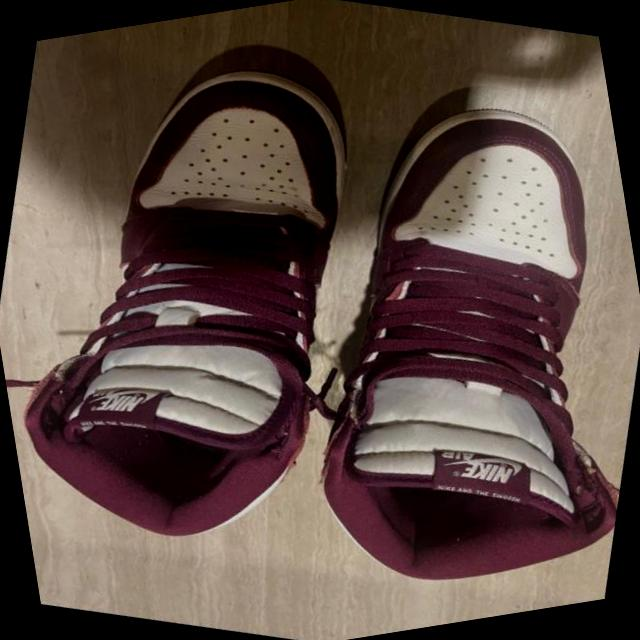nike_original_jordan: (0, 0, 437, 607), (234, 52, 640, 640)
